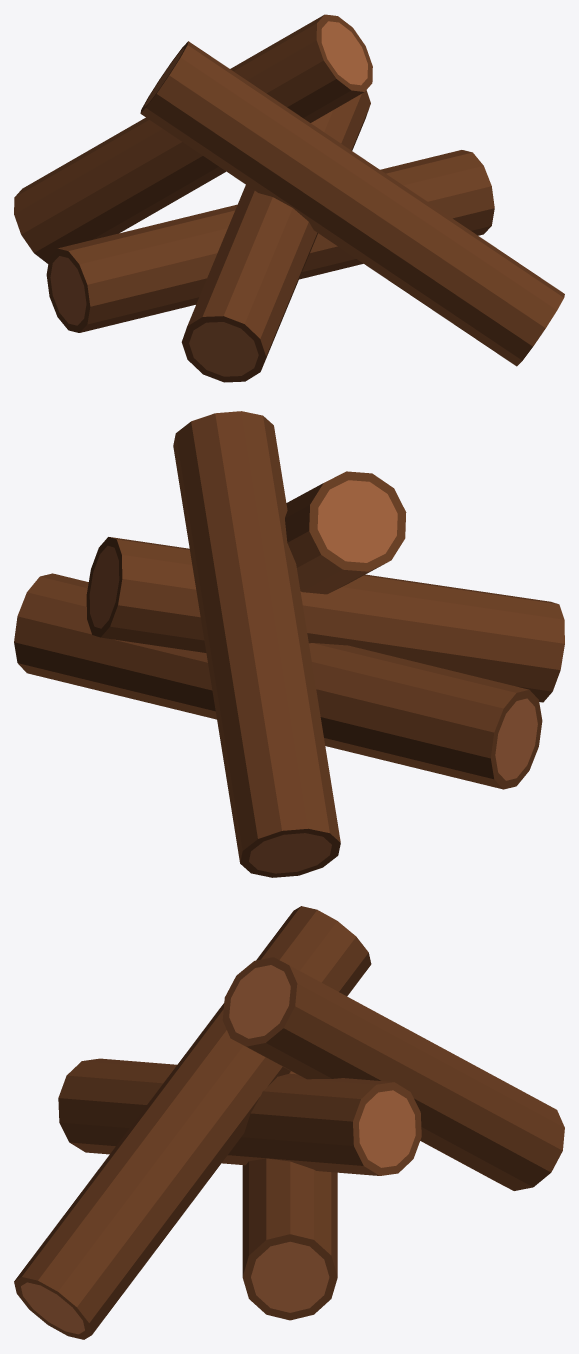
Rendered from campfire.fbx.
3 renders of one model, top to bottom at view 1: azimuth 30°, elevation 25°; view 2: azimuth 150°, elevation 25°; view 3: azimuth 270°, elevation 25°, orthographic. The views are drawn at different scales.
Visible parts, largest first — view 1: Cylinder.003; view 2: Cylinder.003; view 3: Cylinder.003.
Boxes of the visible parts, <box> form: Cylinder.003: <box>14,14,564,382</box>; Cylinder.003: <box>14,411,564,877</box>; Cylinder.003: <box>14,906,564,1339</box>.
Bounding box in the file's own units: 1067 × 747 × 1157.
